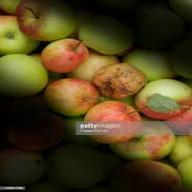apple: (39, 78, 105, 115), (76, 16, 142, 52), (0, 54, 51, 98), (82, 102, 144, 136), (90, 64, 146, 101), (130, 48, 181, 84)
